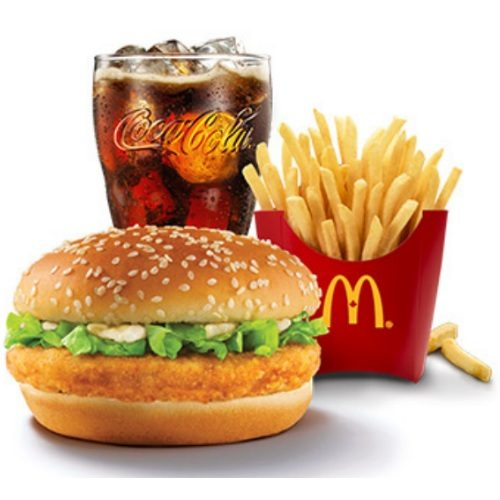mcdonalds: (318, 270, 388, 339)
